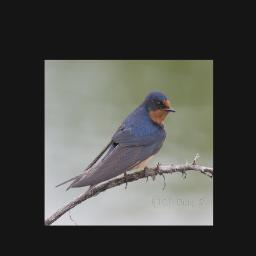Swallow: (54, 89, 177, 192)
